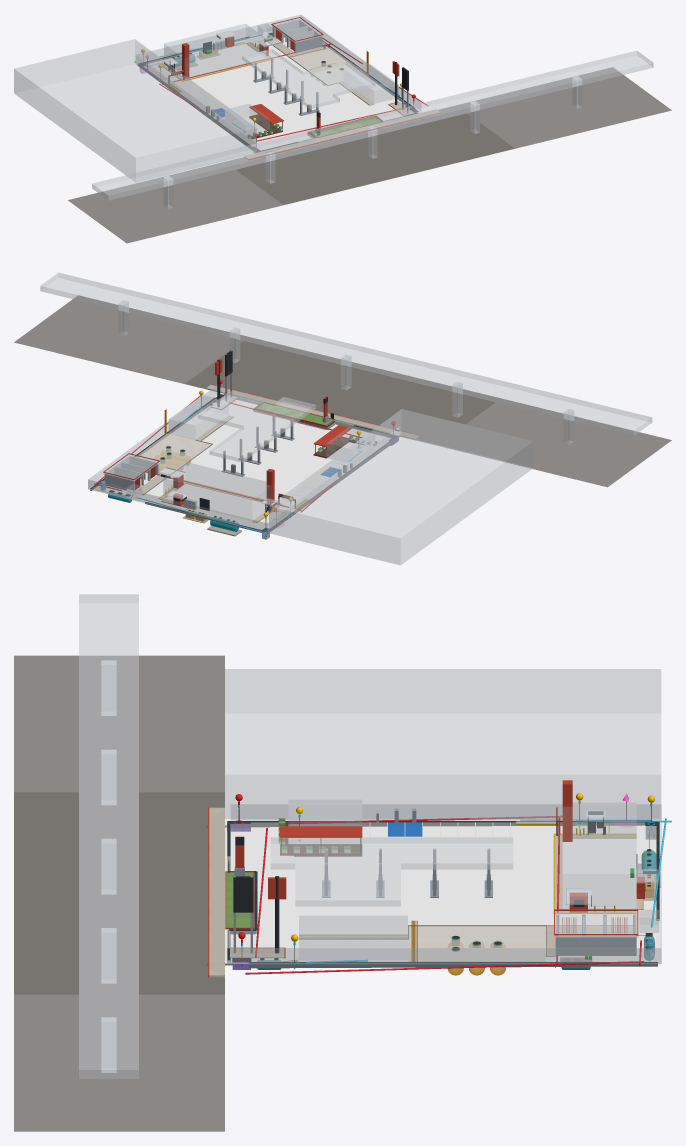
3 views of the same model, one above another, from view 1: azimuth 30°, elevation 25°; view 2: azimuth 150°, elevation 25°; view 3: azimuth 270°, elevation 25° (orthographic). The views are drawn at different scales.
Parts seen in each view (by area): view 1: Road in front of the station, Neighbouring warehouse (west), Elevated road / rail over the main road, Road side (frontage road), Forecourt (shown flat at ±0.00, no levels known), Canopy, KFC drive-through restaurant, Boundary firewall (×3), Office and Mini Big C, Raised tank-farm pad, Toilet walls, Coffee shop (+3 smaller); view 2: Road in front of the station, Neighbouring warehouse (west), Elevated road / rail over the main road, Forecourt (shown flat at ±0.00, no levels known), Road side (frontage road), Canopy, Boundary firewall (×3), KFC drive-through restaurant, Office and Mini Big C, Raised tank-farm pad, Toilet walls, Coffee shop (+3 smaller); view 3: Road in front of the station, Neighbouring warehouse (west), Forecourt (shown flat at ±0.00, no levels known), Road side (frontage road), Elevated road / rail over the main road, Boundary firewall (×2), Canopy, KFC drive-through restaurant, Raised tank-farm pad, Office and Mini Big C, Public footpath along the road, Coffee shop (+6 smaller).
Boxes of the visible parts, box(x1,y1,x2,y2) form: Road in front of the station: box(68, 67, 671, 243); Neighbouring warehouse (west): box(14, 39, 256, 182); Elevated road / rail over the main road: box(92, 50, 653, 208); Road side (frontage road): box(226, 106, 514, 204); Forecourt (shown flat at ±0.00, no levels known): box(148, 31, 420, 149); Canopy: box(242, 49, 375, 108); KFC drive-through restaurant: box(164, 24, 265, 76); Boundary firewall (×3): box(137, 15, 421, 144); Office and Mini Big C: box(344, 63, 398, 103); Raised tank-farm pad: box(290, 47, 368, 84); Toilet walls: box(272, 19, 322, 52); Coffee shop: box(225, 104, 269, 135); Road in front of the station: box(14, 295, 671, 487); Neighbouring warehouse (west): box(269, 409, 533, 565); Elevated road / rail over the main road: box(40, 272, 652, 444); Forecourt (shown flat at ±0.00, no levels known): box(89, 392, 386, 532); Road side (frontage road): box(185, 338, 498, 444); Canopy: box(198, 391, 316, 462); Boundary firewall (×3): box(88, 385, 398, 532); KFC drive-through restaurant: box(163, 462, 274, 520); Office and Mini Big C: box(169, 395, 228, 439); Raised tank-farm pad: box(135, 433, 211, 473); Toilet walls: box(104, 456, 158, 490); Coffee shop: box(327, 427, 374, 462); Road in front of the station: box(14, 655, 224, 1131); Neighbouring warehouse (west): box(225, 669, 661, 819); Forecourt (shown flat at ±0.00, no levels known): box(225, 820, 660, 963); Road side (frontage road): box(14, 792, 224, 994); Elevated road / rail over the main road: box(79, 594, 138, 1078); Boundary firewall (×2): box(231, 804, 660, 963); Canopy: box(270, 837, 513, 906); KFC drive-through restaurant: box(563, 803, 636, 908); Raised tank-farm pad: box(408, 925, 545, 961); Office and Mini Big C: box(299, 916, 407, 959); Public footpath along the road: box(208, 807, 224, 977); Coffee shop: box(288, 800, 361, 843).
Bounding box in the file's own units: 160 × 15.3 × 93.53.
